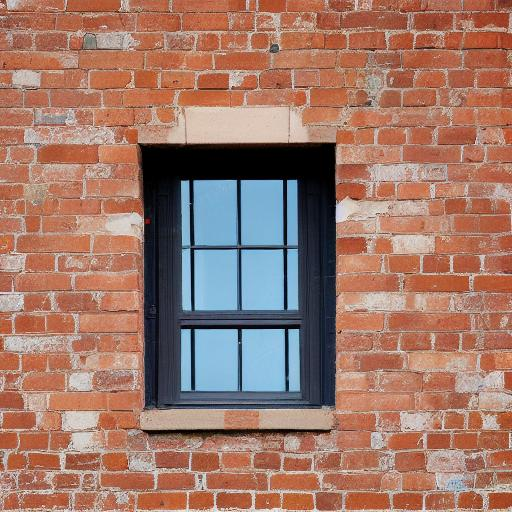Window: (137, 140, 342, 435)
